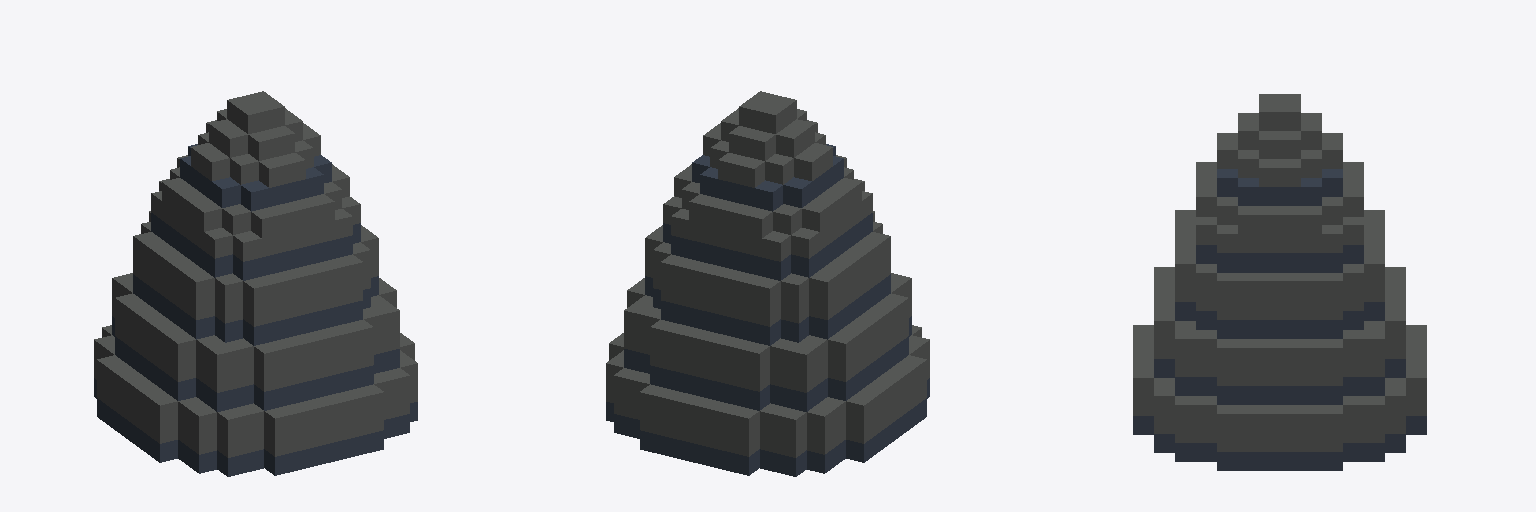
3 views of the same model, side by side, from view 1: azimuth 30°, elevation 25°; view 2: azimuth 150°, elevation 25°; view 3: azimuth 270°, elevation 25° (orthographic).
Parts seen in each view (by area): view 1: object 1; view 2: object 1; view 3: object 1.
Part boxes in pixels (x1,y1,x2,y2): object 1: (94, 91, 417, 476); object 1: (606, 91, 929, 476); object 1: (1133, 94, 1426, 470).
Size of the model in its own units: 1.4 by 1.6 by 1.4.
1 materials, 1 textured.